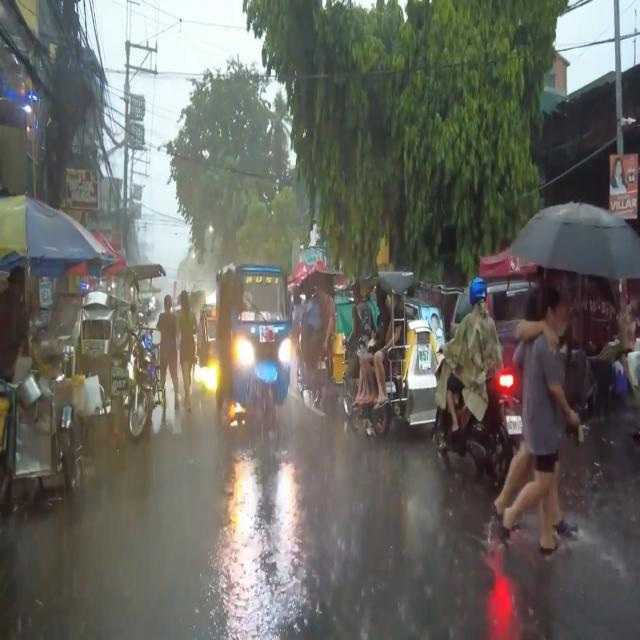full: (468, 276, 488, 306)
